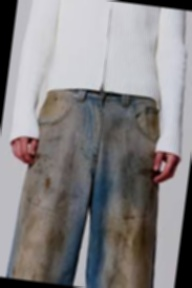earth: (111, 217, 155, 260), (48, 192, 67, 252), (45, 92, 60, 116), (147, 114, 158, 129), (44, 177, 53, 192)
